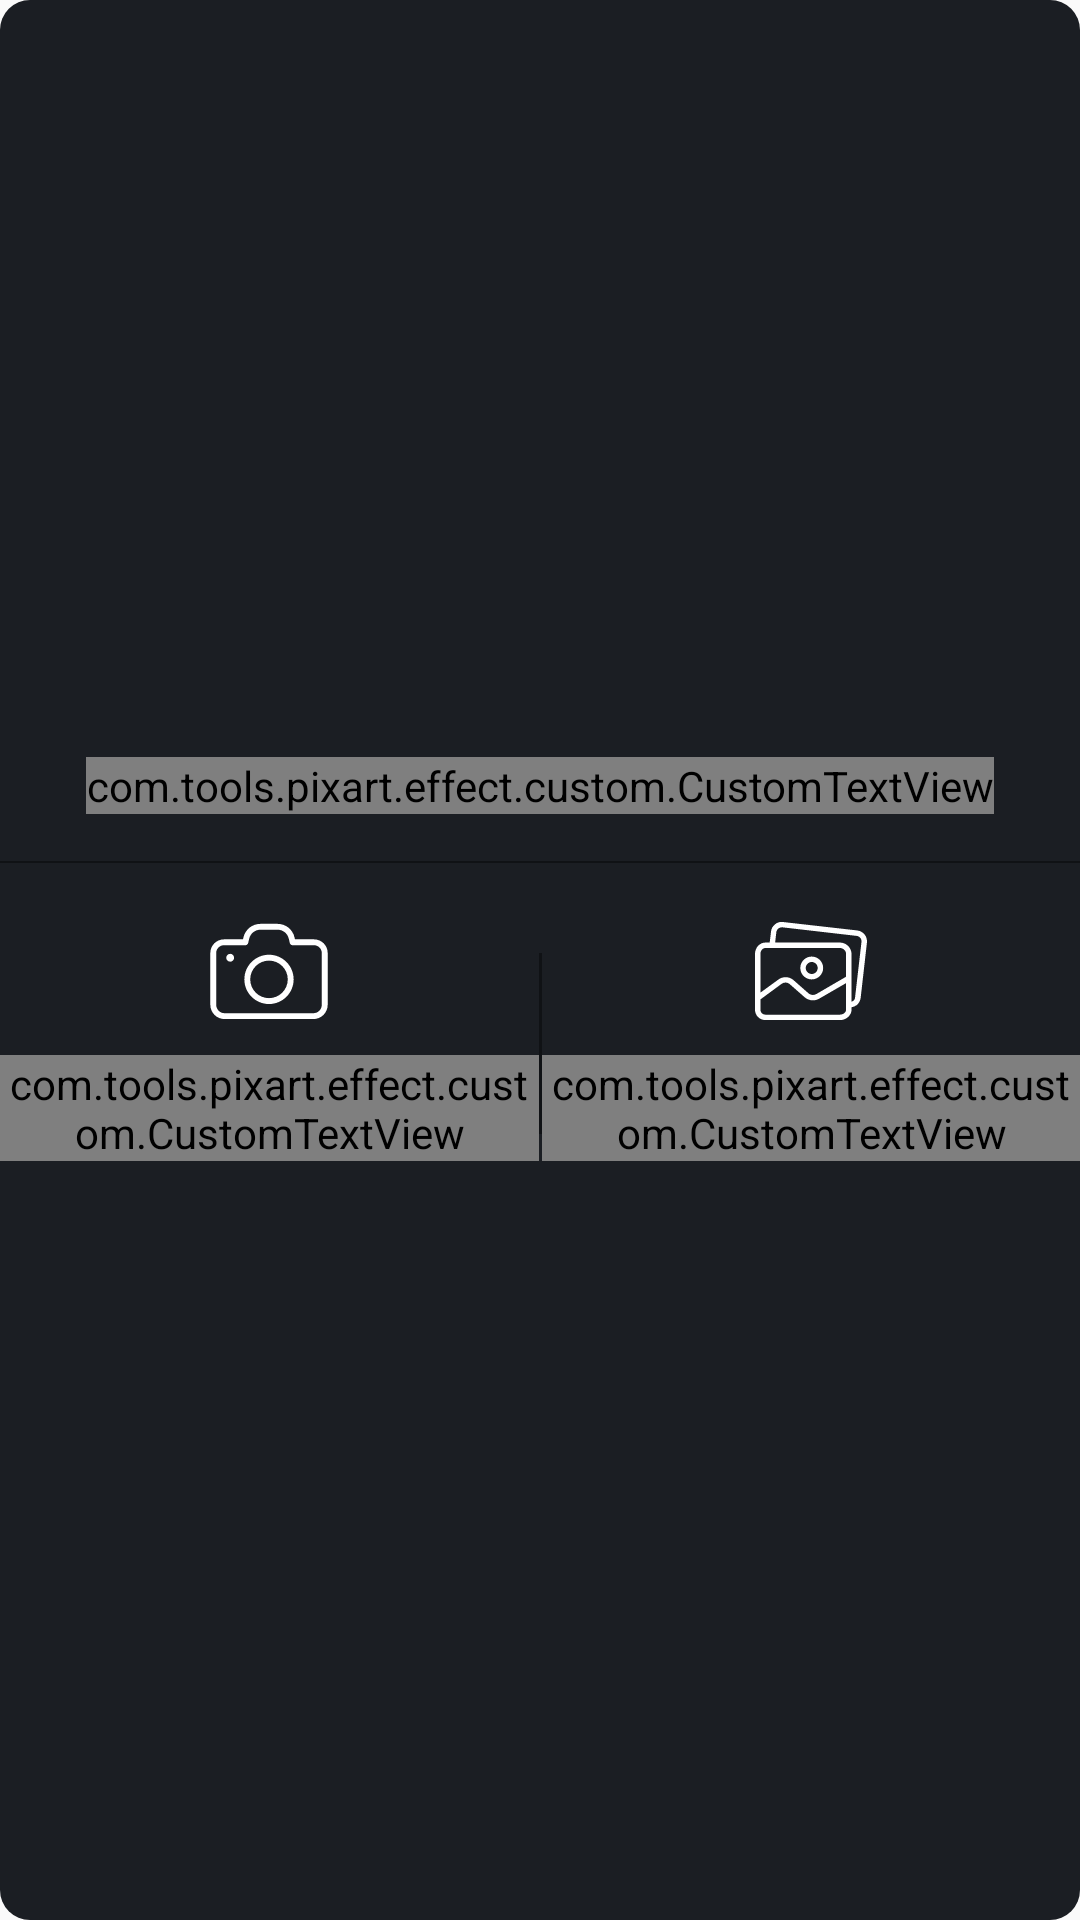

Icon click points for this 1080 x 1920 phone screenshot, format [x,y]:
camera: [269,971]
gallery: [811,971]
